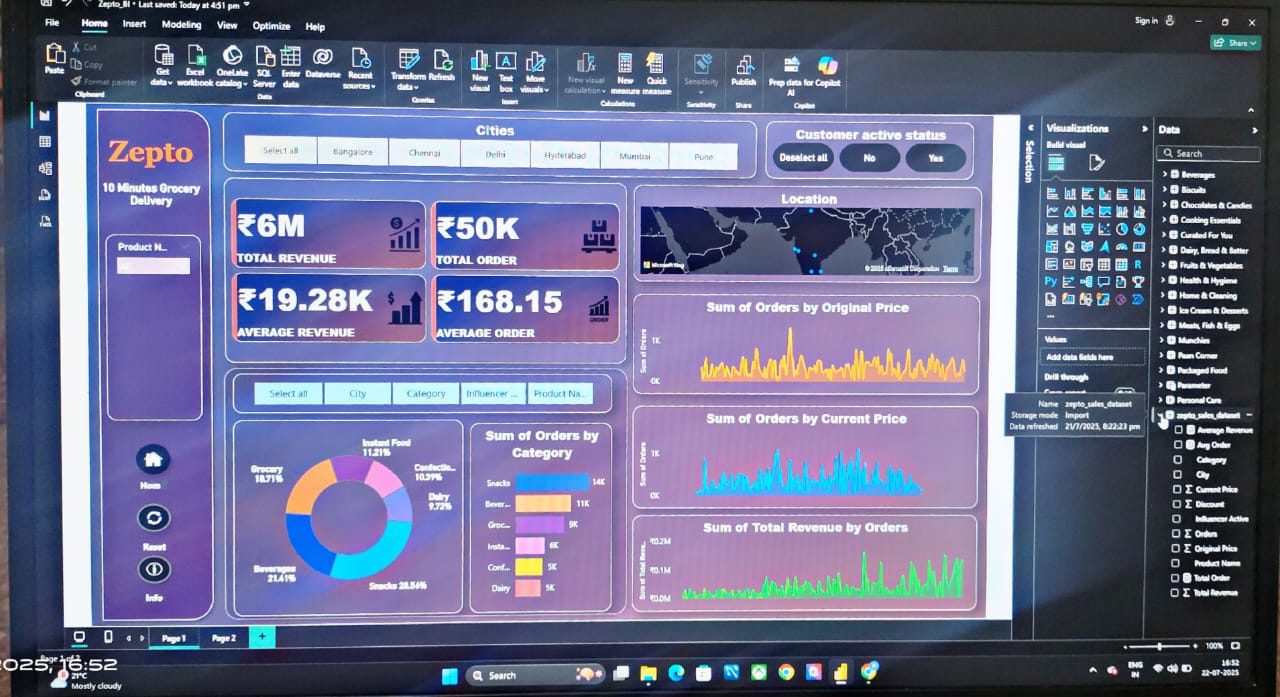

The page's visual inventory and layout, read from the dashboard file:
{"tool":"powerbi","page":{"name":"Page 1","canvas":[1400,800],"ordinal":0},"visuals":[{"type":"shape","box":[7.8,0,186.7,800],"z":0},{"type":"textbox","box":[22.9,42.9,146.6,64.8],"z":1000},{"type":"textbox","box":[12,111.7,168.6,52.9],"z":2000},{"type":"slicer","title":"Cities","fields":{"Values":["zepto_sales_dataset.City"]},"box":[205,11.2,820,88.8],"z":3000},{"type":"map","title":"Location","fields":{"Category":["zepto_sales_dataset.City"]},"box":[832.2,112.2,552.2,151.1],"z":4000},{"type":"cardVisual","fields":{"Data":["Sum(zepto_sales_dataset.Total Revenue)","zepto_sales_dataset.Total Order","zepto_sales_dataset.Average Revenue","zepto_sales_dataset.Avg Order"]},"box":[205,110,616.2,282.5],"z":5000},{"type":"shape","box":[194.4,392.2,637.8,407.8],"z":6000},{"type":"donutChart","fields":{"Category":["zepto_sales_dataset.City","zepto_sales_dataset.Category","zepto_sales_dataset.Influencer Active","zepto_sales_dataset.Product Name"],"Y":["Sum(zepto_sales_dataset.Orders)"]},"box":[215.6,482.2,350,303.3],"z":7000},{"type":"slicer","fields":{"Values":["Parameter.Parameter"]},"box":[215.6,410,583.3,61.1],"z":8000},{"type":"clusteredBarChart","fields":{"Y":["Sum(zepto_sales_dataset.Orders)"],"Category":["zepto_sales_dataset.Category"]},"box":[576.7,486.7,222.2,298.9],"z":9000},{"type":"advancedSlicerVisual","title":"Customer active status","fields":{"Values":["zepto_sales_dataset.Influencer Active"]},"box":[1040,11.1,328.9,88.9],"z":10000},{"type":"areaChart","fields":{"Category":["zepto_sales_dataset.Original Price"],"Y":["Sum(zepto_sales_dataset.Orders)"]},"box":[832.2,283.3,552.2,157.8],"z":11000},{"type":"areaChart","fields":{"Category":["zepto_sales_dataset.Current Price"],"Y":["Sum(zepto_sales_dataset.Orders)"]},"box":[832.2,460,552.2,163.3],"z":12000},{"type":"stackedAreaChart","fields":{"Category":["zepto_sales_dataset.Orders"],"Y":["Sum(zepto_sales_dataset.Total Revenue)"]},"box":[832.2,634.4,552.2,152.2],"z":13000},{"type":"slicer","fields":{"Values":["zepto_sales_dataset.Product Name"]},"box":[27.8,197.8,142.2,284.4],"z":14000},{"type":"actionButton","box":[61.2,508.8,70,65],"z":15000},{"type":"actionButton","box":[61.1,601.1,70,62.2],"z":16000},{"type":"actionButton","box":[61.1,681.1,70,62.2],"z":17000},{"type":"textbox","box":[68.9,567.8,53.3,27.8],"z":18000},{"type":"textbox","box":[70,663.3,53.3,27.8],"z":19000},{"type":"textbox","box":[68.9,742.2,53.3,27.8],"z":20000}]}

Visuals, with their boxes on the page's 1400x800 design canvas (x1, y1, x2, y2). These are canvas units, not pixel positions in the 1280x697 screenshot, which may show the page scaled, cropped or inside an application window:
shape: rect(8, 0, 194, 800)
textbox: rect(23, 43, 170, 108)
textbox: rect(12, 112, 181, 165)
"Cities" slicer: rect(205, 11, 1025, 100)
"Location" map: rect(832, 112, 1384, 263)
cardVisual - Sum(zepto_sales_dataset.Total Revenue) x zepto_sales_dataset.Total Order: rect(205, 110, 821, 392)
shape: rect(194, 392, 832, 800)
donutChart - zepto_sales_dataset.City x zepto_sales_dataset.Category: rect(216, 482, 566, 786)
slicer - Parameter.Parameter: rect(216, 410, 799, 471)
clusteredBarChart - Sum(zepto_sales_dataset.Orders) x zepto_sales_dataset.Category: rect(577, 487, 799, 786)
"Customer active status" advancedSlicerVisual: rect(1040, 11, 1369, 100)
areaChart - zepto_sales_dataset.Original Price x Sum(zepto_sales_dataset.Orders): rect(832, 283, 1384, 441)
areaChart - zepto_sales_dataset.Current Price x Sum(zepto_sales_dataset.Orders): rect(832, 460, 1384, 623)
stackedAreaChart - zepto_sales_dataset.Orders x Sum(zepto_sales_dataset.Total Revenue): rect(832, 634, 1384, 787)
slicer - zepto_sales_dataset.Product Name: rect(28, 198, 170, 482)
actionButton: rect(61, 509, 131, 574)
actionButton: rect(61, 601, 131, 663)
actionButton: rect(61, 681, 131, 743)
textbox: rect(69, 568, 122, 596)
textbox: rect(70, 663, 123, 691)
textbox: rect(69, 742, 122, 770)
